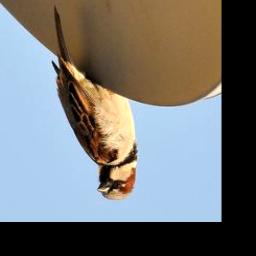Swallow: (52, 6, 140, 201)
